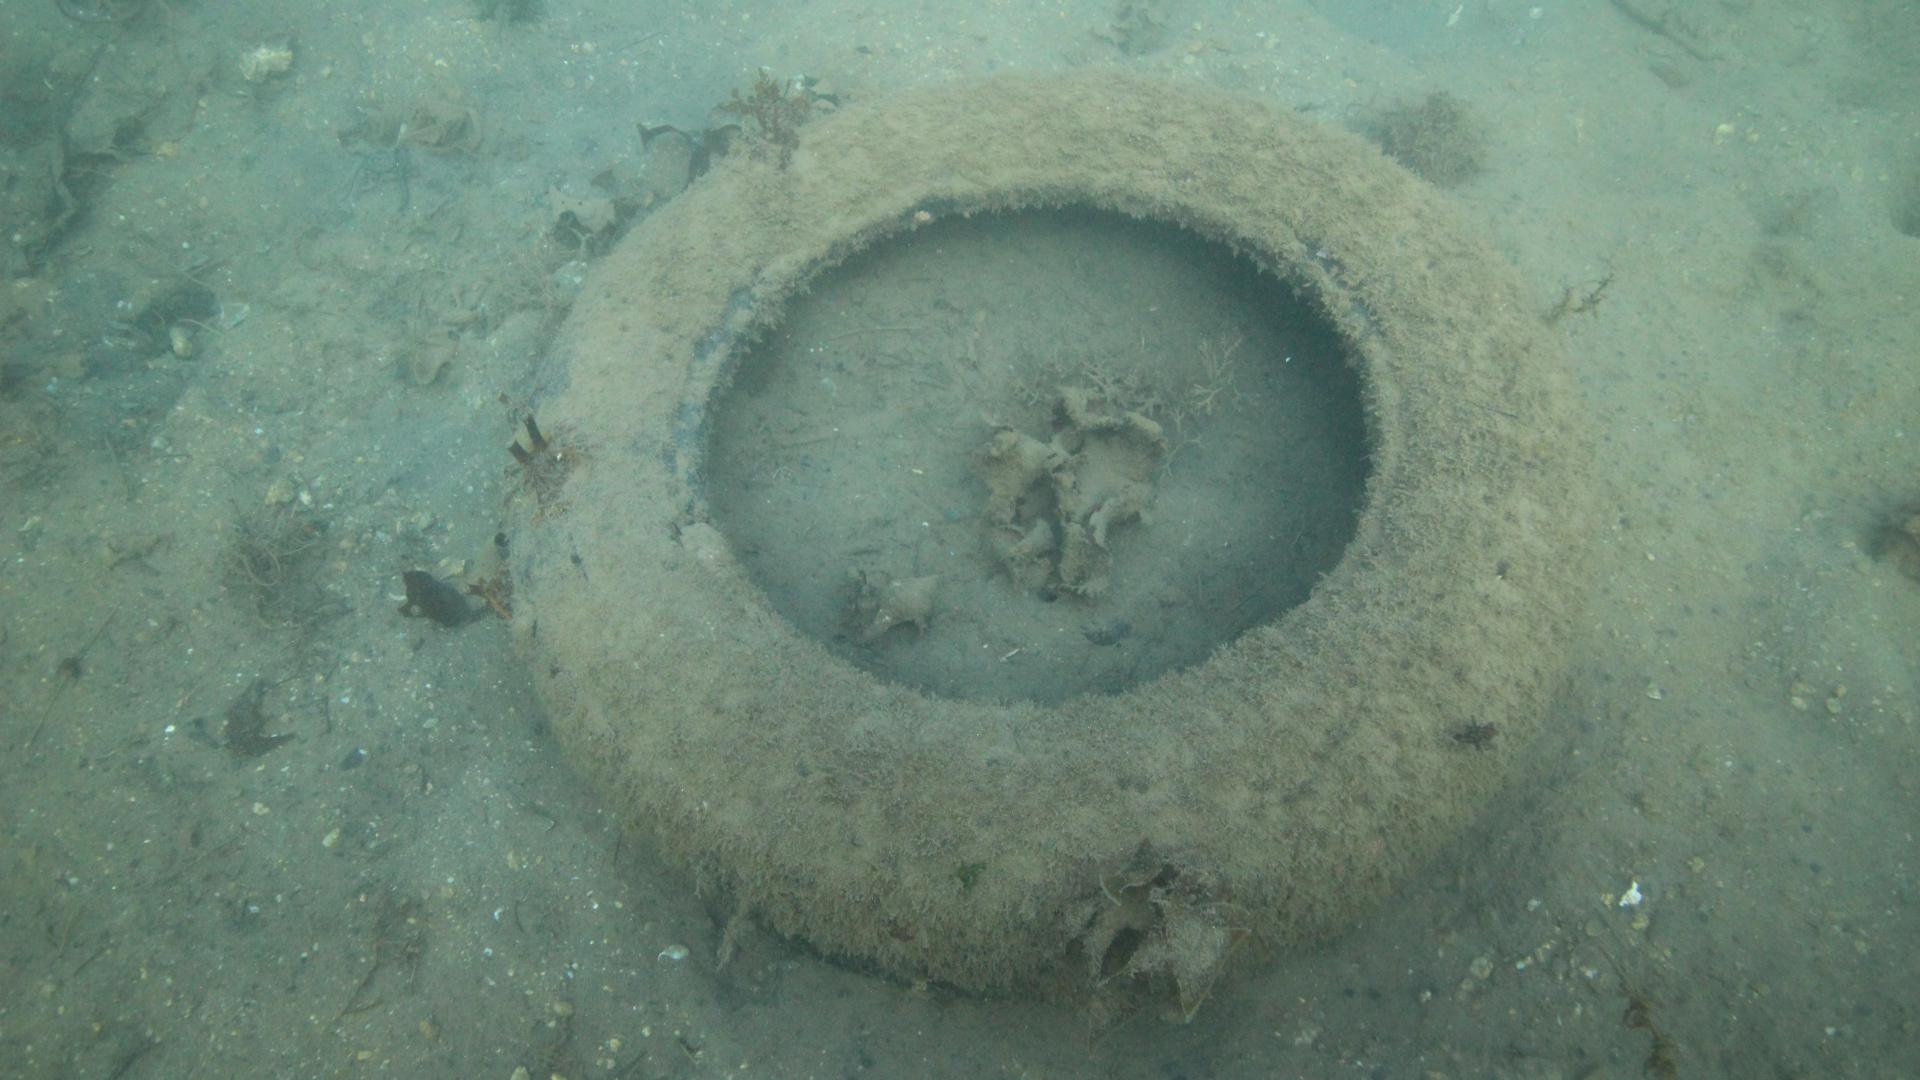tire: (502, 71, 1592, 1004)
